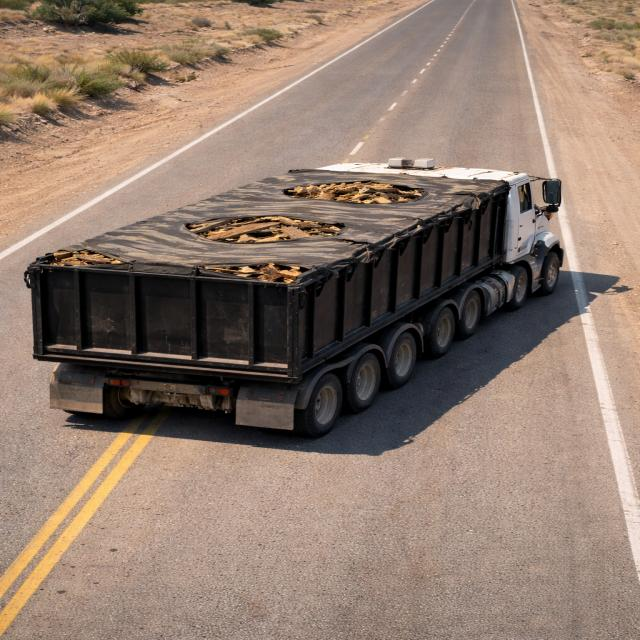trailer: (31, 171, 508, 275)
truck: (18, 143, 567, 446)
